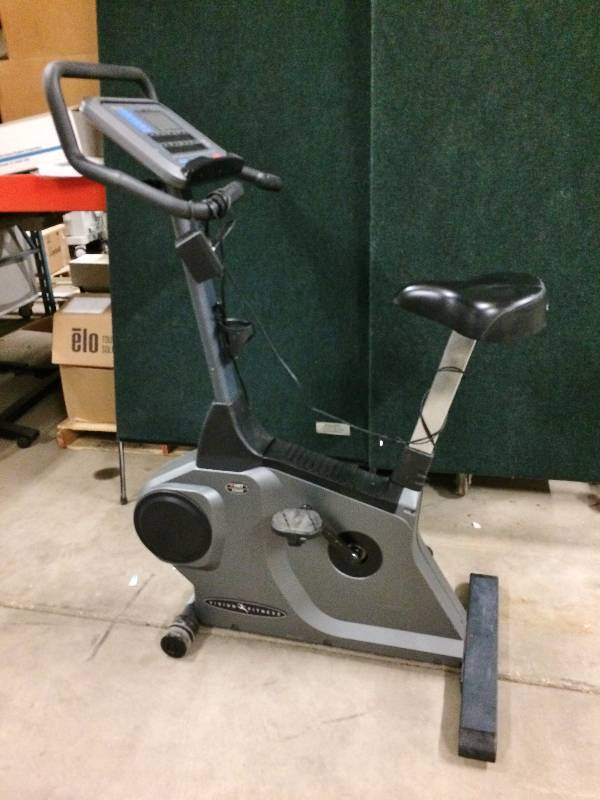gym_bike: (37, 54, 557, 756)
